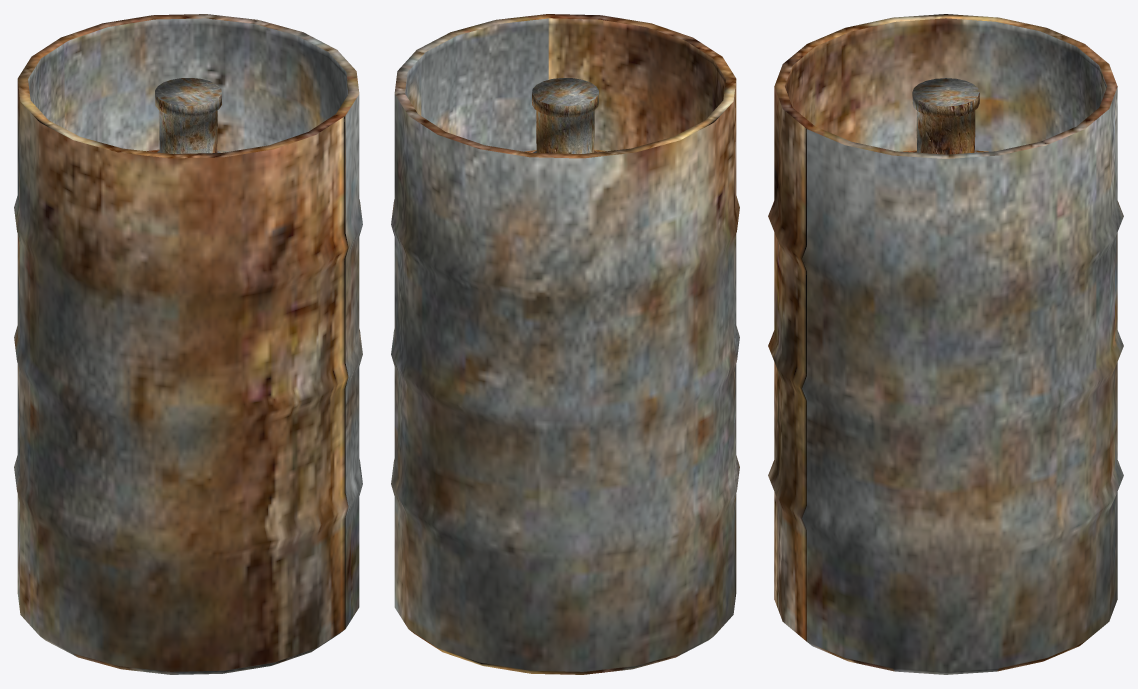
The model's file is BarrelRust2.fbx.
3 views of the same model, side by side, from view 1: azimuth 30°, elevation 25°; view 2: azimuth 150°, elevation 25°; view 3: azimuth 270°, elevation 25° (orthographic).
Visible parts, largest first — view 1: Barrel_Rust2:pCylinder1; view 2: Barrel_Rust2:pCylinder1; view 3: Barrel_Rust2:pCylinder1.
Part boxes in pixels (x1=…): Barrel_Rust2:pCylinder1: x1=14, y1=14, x2=362, y2=674; Barrel_Rust2:pCylinder1: x1=391, y1=14, x2=739, y2=674; Barrel_Rust2:pCylinder1: x1=768, y1=14, x2=1123, y2=674.
Size of the model in its own units: 6.11 by 10 by 6.22.
